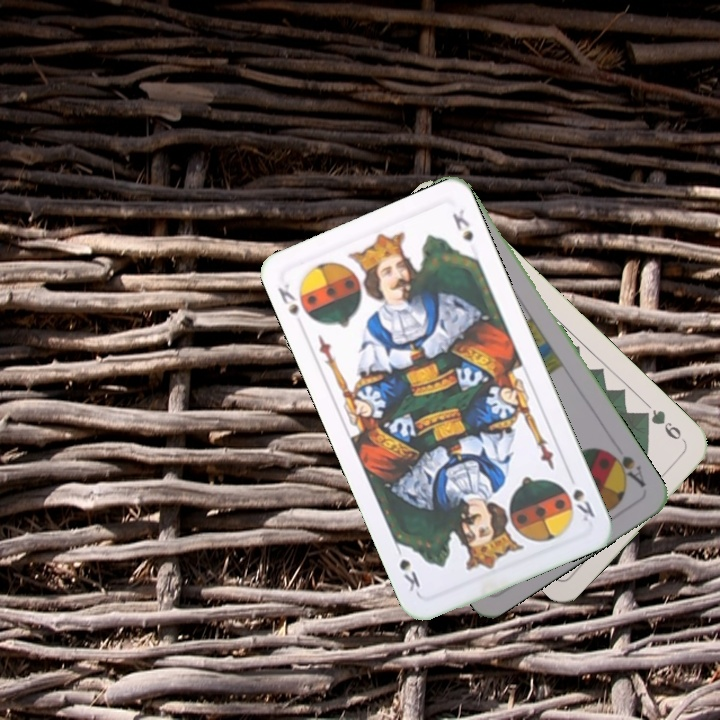G9: (637, 405, 689, 447)
SA: (601, 446, 649, 491)
SK: (568, 485, 598, 525), (273, 279, 302, 318)
